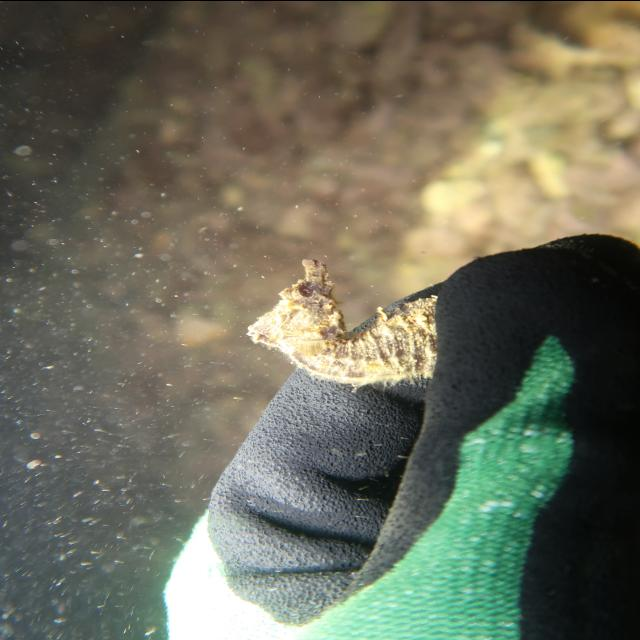Hippo: (246, 250, 352, 350)
